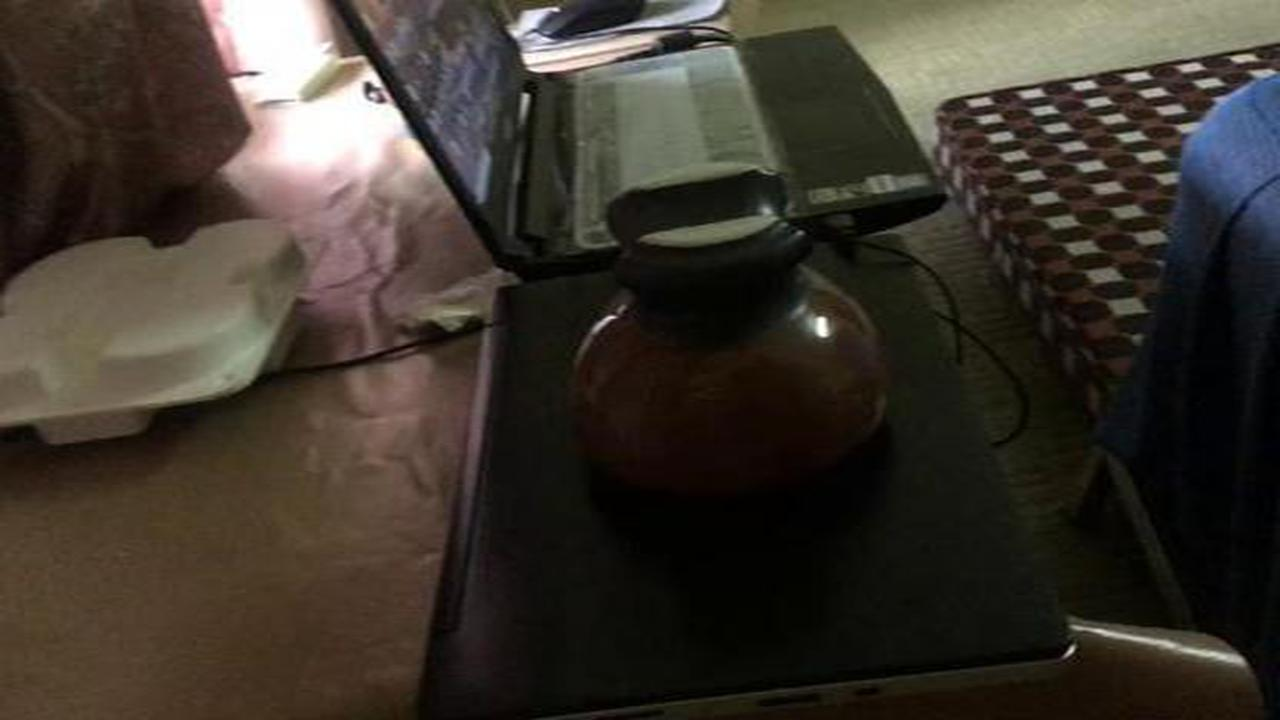insulator_pin: (530, 153, 921, 520)
